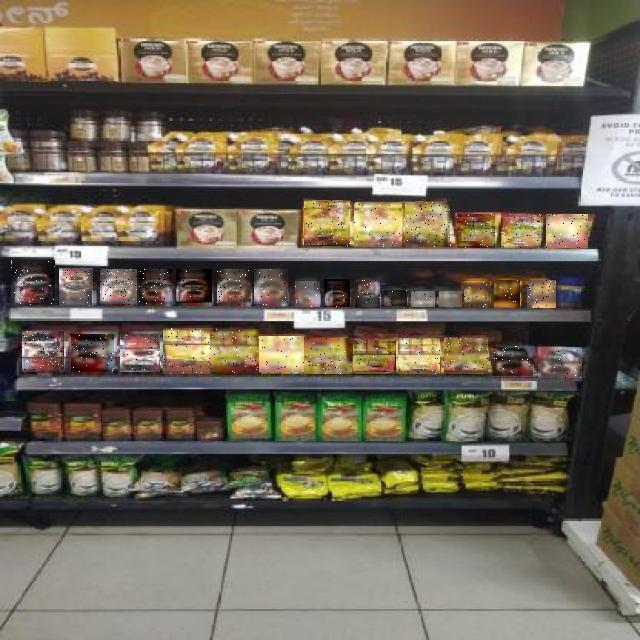Coffee: (163, 328, 212, 374), (210, 329, 259, 374), (355, 202, 403, 247), (304, 200, 350, 246), (406, 202, 452, 247), (11, 260, 55, 306), (22, 331, 64, 372), (260, 336, 306, 372), (306, 338, 352, 374), (71, 334, 114, 372), (444, 338, 488, 373), (120, 334, 160, 372), (398, 338, 440, 374), (500, 214, 542, 248), (546, 215, 588, 249), (353, 340, 396, 372), (60, 268, 96, 306), (538, 347, 582, 378), (100, 270, 137, 306), (176, 270, 212, 306), (457, 214, 495, 248), (217, 270, 251, 306), (254, 270, 288, 306), (493, 346, 533, 376), (139, 270, 172, 306), (527, 280, 556, 308), (325, 279, 351, 307), (495, 281, 521, 309), (355, 280, 380, 308), (464, 282, 490, 308), (295, 281, 320, 307), (411, 291, 435, 307), (440, 291, 464, 307), (384, 291, 407, 307)
